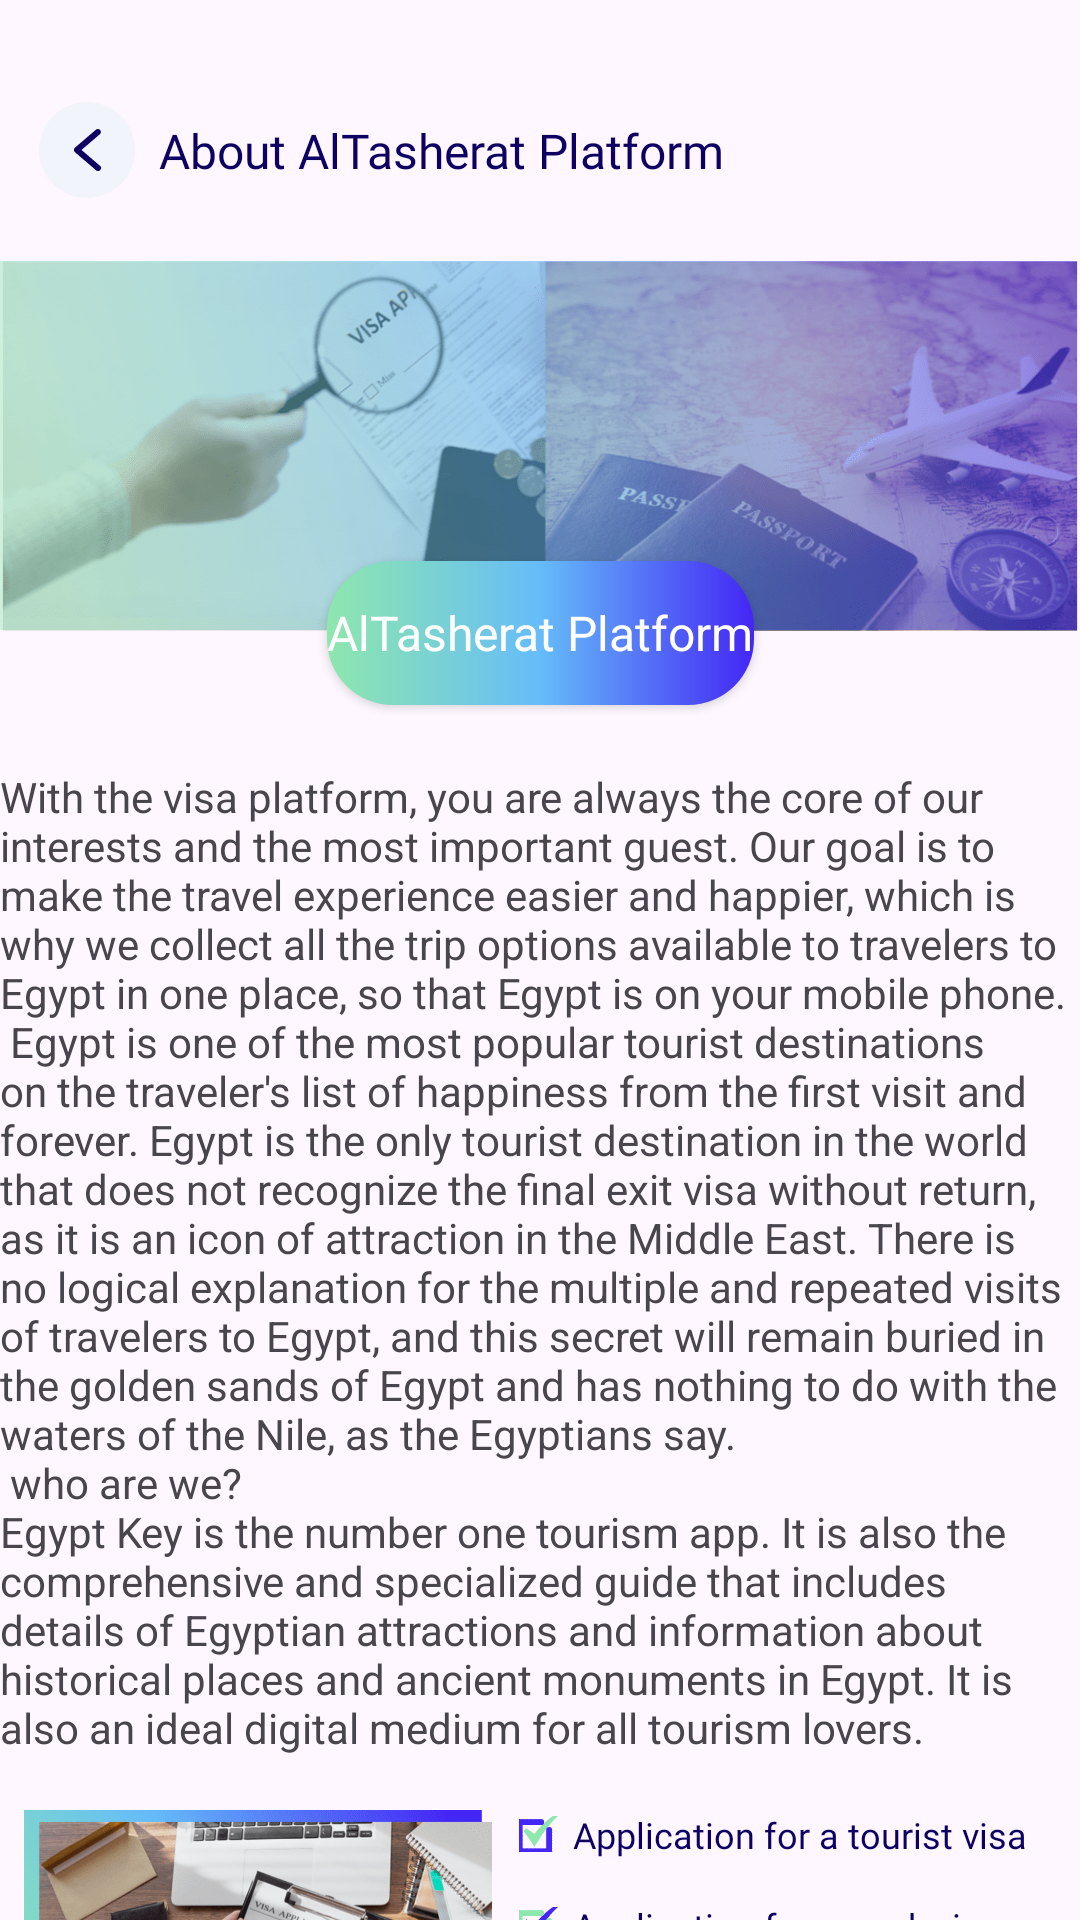

Named icons in this screenshot (1080×1920) and their bounding boxes, detection(x1, y1, x2, y2):
arrow back: detection(39, 102, 135, 198)
